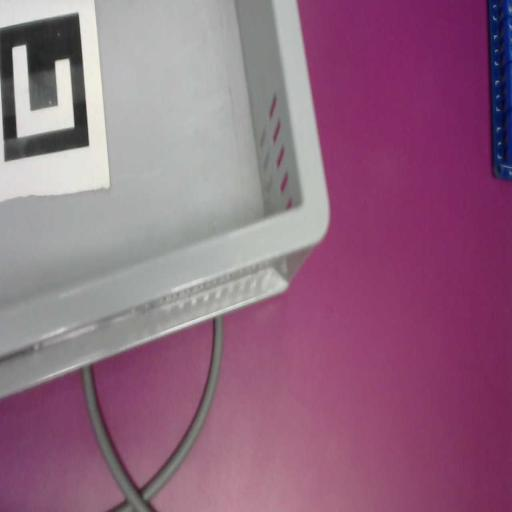QR: (0, 1, 111, 203)
relay_module: (486, 0, 512, 184)
